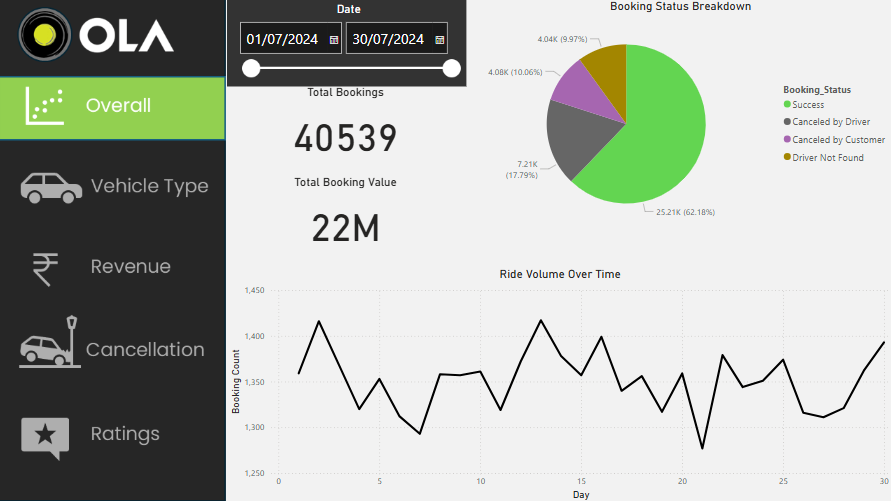

The page's visual inventory and layout, read from the dashboard file:
{"tool":"powerbi","page":{"name":"Overall","canvas":[1280,720],"ordinal":0},"visuals":[{"type":"actionButton","box":[0,222.4,325.3,89],"z":0},{"type":"actionButton","box":[0,339.2,325.3,89],"z":1000},{"type":"actionButton","box":[0,449,325.3,89],"z":2000},{"type":"actionButton","box":[0,579.6,325.3,89],"z":3000},{"type":"actionButton","box":[0,109.8,325.3,89],"z":4000},{"type":"lineChart","title":"Ride Volume Over Time","fields":{"Category":["ola booking.Date.Variation.Date Hierarchy.Day"],"Y":["CountNonNull(ola booking.Booking_ID)"]},"box":[325,382.5,955,337.5],"z":5000},{"type":"pieChart","title":"Booking Status Breakdown","fields":{"Category":["ola booking.Booking_Status"],"Y":["CountNonNull(ola booking.Booking_Status)"]},"box":[666.7,0,613.3,338.3],"z":6000},{"type":"slicer","title":"Date","fields":{"Values":["ola booking.Date"]},"box":[325.3,0,341.9,125.1],"z":7000},{"type":"card","title":"Total Bookings","fields":{"Values":["CountNonNull(ola booking.Booking_ID)"]},"box":[325,123.3,341.7,116.7],"z":8000},{"type":"card","title":"Total Booking Value","fields":{"Values":["Sum(ola booking.Booking_Value)"]},"box":[325,251.7,341.7,116.7],"z":9000}]}

Visuals, with their boxes in screenshot pixels (x1, y1, x2, y2), scaled from the page's 1280x720 canvas onto the 891x503 screenshot:
actionButton: locate(0, 155, 226, 218)
actionButton: locate(0, 237, 226, 299)
actionButton: locate(0, 314, 226, 376)
actionButton: locate(0, 405, 226, 467)
actionButton: locate(0, 77, 226, 139)
"Ride Volume Over Time" lineChart: locate(226, 267, 890, 502)
"Booking Status Breakdown" pieChart: locate(464, 0, 890, 236)
"Date" slicer: locate(226, 0, 464, 87)
"Total Bookings" card: locate(226, 86, 464, 168)
"Total Booking Value" card: locate(226, 176, 464, 257)
